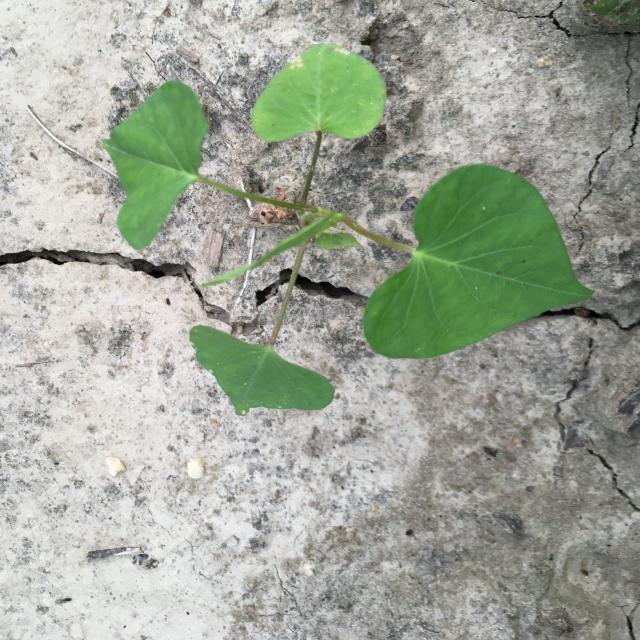MorningGlory: (98, 42, 597, 416)
